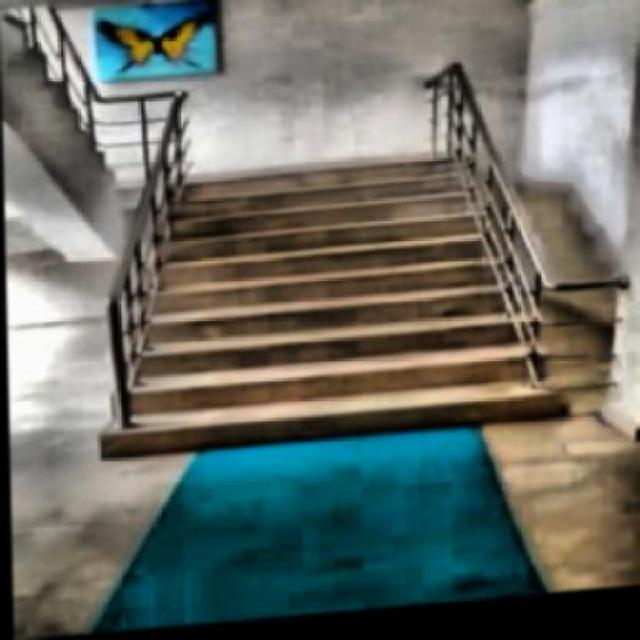stair: (110, 152, 588, 463)
